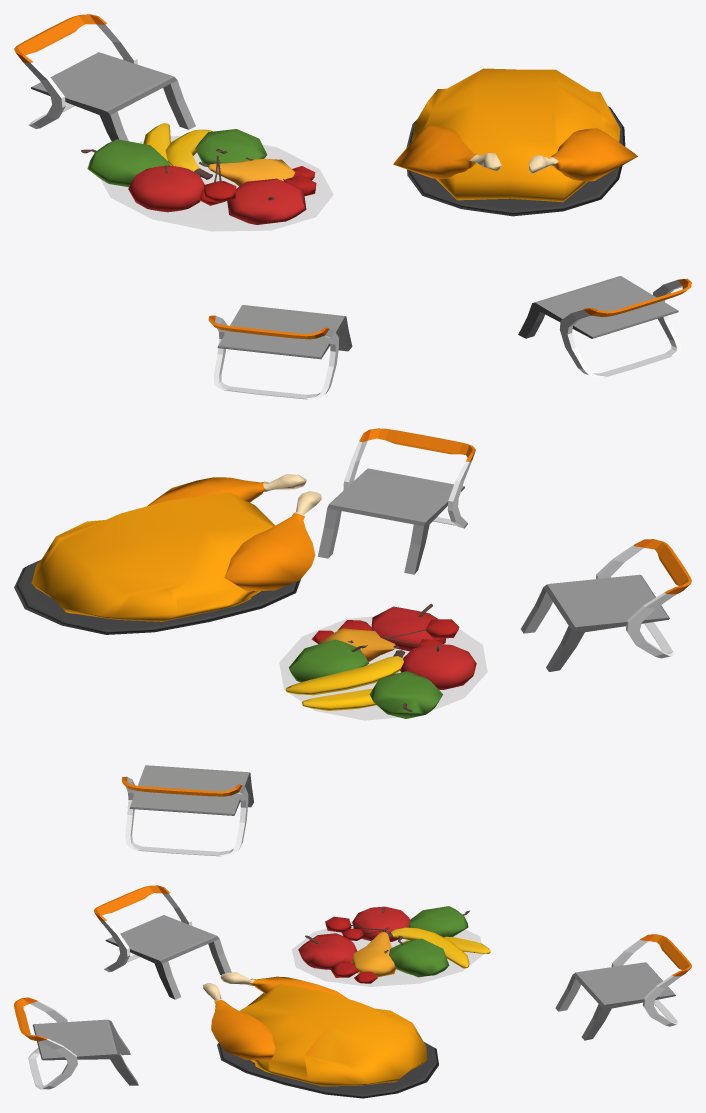
Rendered from Table_lv2_v2.FBX.
The picture shows the model from 3 angles, top to bottom: view 1: azimuth 30°, elevation 25°; view 2: azimuth 150°, elevation 25°; view 3: azimuth 270°, elevation 25°; orthographic projection. The views are drawn at different scales.
Parts seen in each view (by area): view 1: LV2; view 2: LV2; view 3: LV2.
Boxes of the visible parts, x1,y1,x2,y2 form: LV2: (14,14,691,399); LV2: (14,428,691,856); LV2: (14,885,691,1098).
Bounding box in the file's own units: 7.82 × 1.7 × 11.1.
